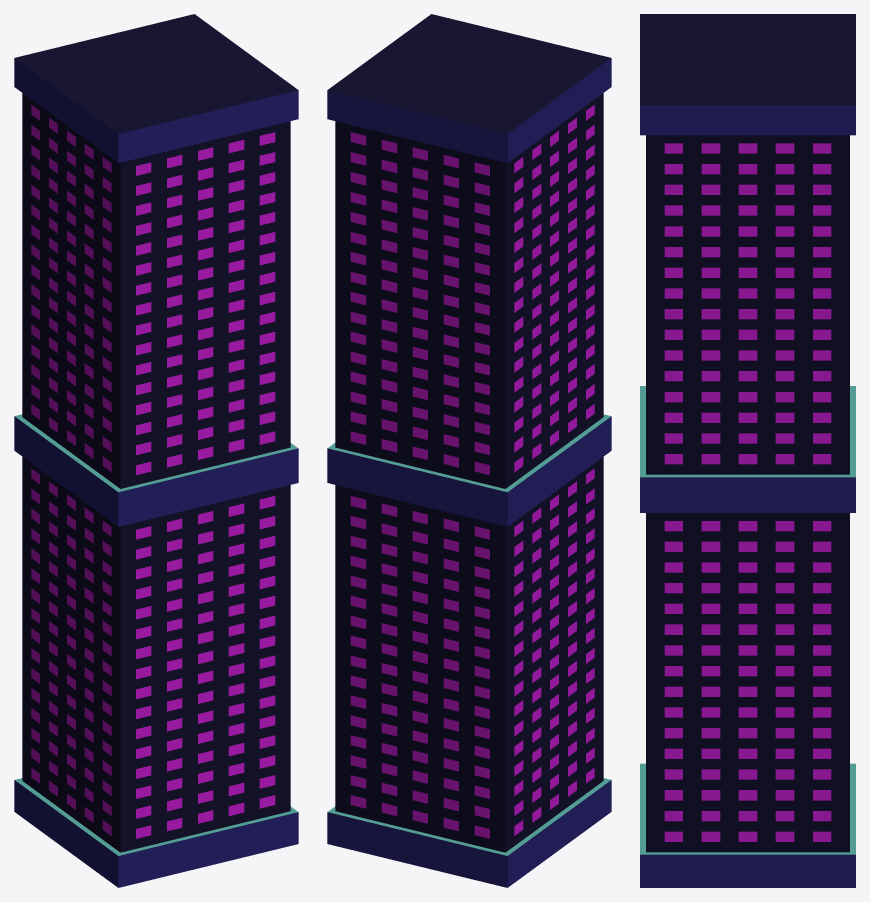
The model's file is SM_Building_03.fbx.
3 views of the same model, side by side, from view 1: azimuth 30°, elevation 25°; view 2: azimuth 150°, elevation 25°; view 3: azimuth 270°, elevation 25° (orthographic). The views are drawn at different scales.
Visible parts, largest first — view 1: building_08.004; view 2: building_08.004; view 3: building_08.004.
Boxes of the visible parts, bbox=[...] form: building_08.004: bbox=[14, 14, 298, 887]; building_08.004: bbox=[327, 14, 611, 887]; building_08.004: bbox=[640, 14, 855, 887].
Size of the model in its own units: 4 by 16 by 4.
